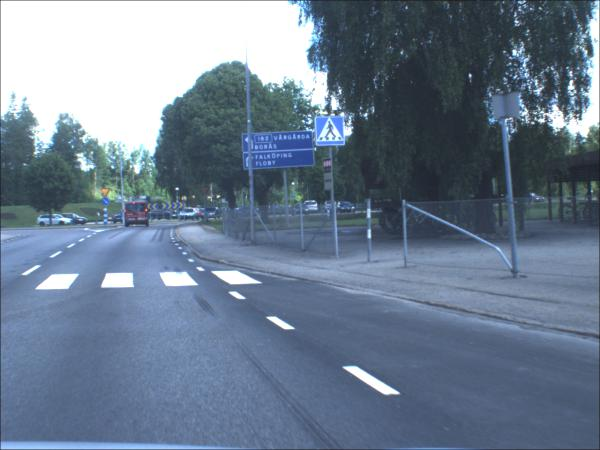GIVE_WAY: (101, 190, 113, 199)
PASS_RIGHT_SIDE: (103, 199, 111, 207)
PEDESTRIAN_CROSSING: (315, 118, 347, 147)
